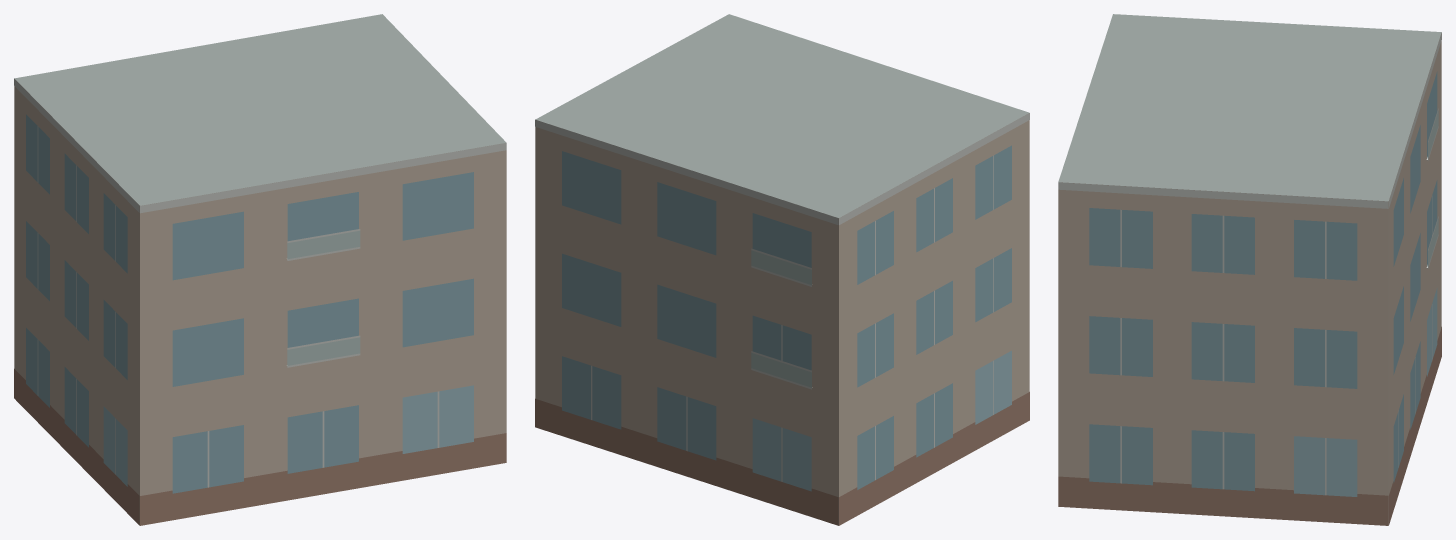
The model's file is survey-upis-32940859.glb.
The picture shows the model from 3 angles, left to right: view 1: azimuth 30°, elevation 25°; view 2: azimuth 150°, elevation 25°; view 3: azimuth 270°, elevation 25°; orthographic projection. The views are drawn at different scales.
Visible parts, largest first — view 1: survey-upis-32940859.tmp; view 2: survey-upis-32940859.tmp; view 3: survey-upis-32940859.tmp.
Part boxes in pixels (x1,y1,x2,y2): survey-upis-32940859.tmp: (14, 14, 506, 525); survey-upis-32940859.tmp: (535, 14, 1029, 525); survey-upis-32940859.tmp: (1058, 14, 1441, 525).
Size of the model in its own units: 13.01 by 10.5 by 11.26.
